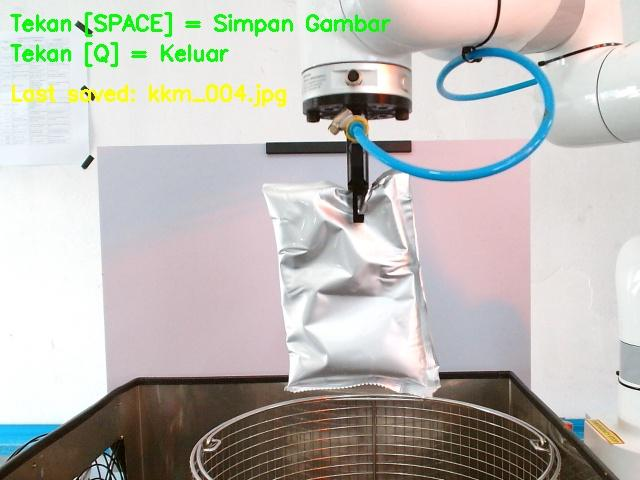retort-pouch: (262, 171, 444, 396)
